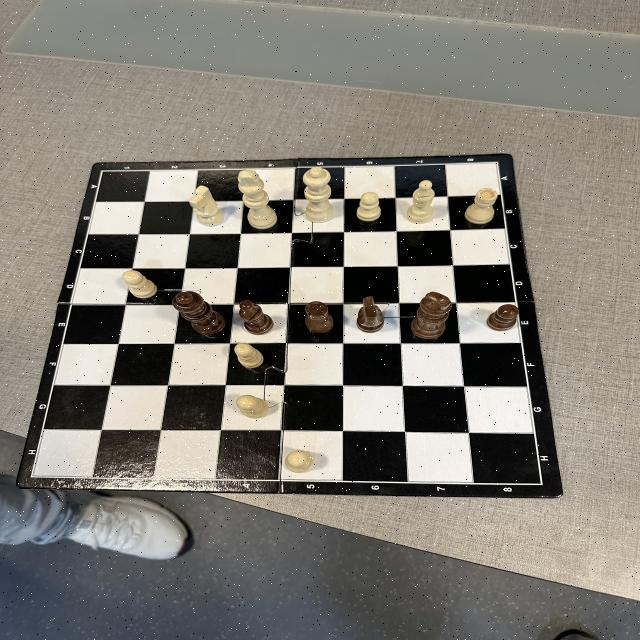Black-Bishop: (238, 300, 274, 336)
Black-King: (410, 292, 452, 340)
Black-Knight: (355, 296, 385, 333)
Black-Pawn: (486, 304, 520, 332), (544, 484, 566, 501)
Black-Queen: (172, 290, 226, 336)
Black-Rook: (304, 301, 335, 333)
White-Bishop: (406, 180, 436, 224)
White-King: (238, 170, 278, 230)
White-Knight: (188, 185, 224, 227)
White-Pawn: (122, 270, 158, 299), (236, 394, 270, 420), (356, 192, 382, 222), (234, 342, 264, 368), (284, 449, 314, 474)
White-Queen: (302, 166, 334, 222)
White-Rook: (464, 188, 498, 225)
